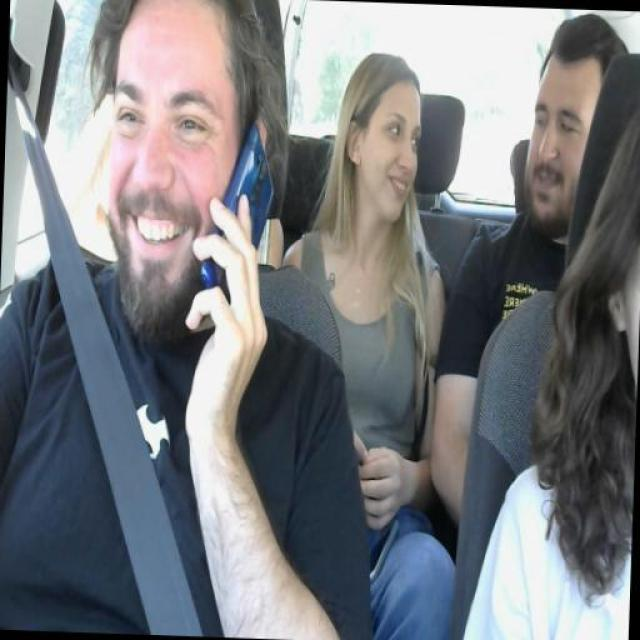phone: (201, 121, 279, 302)
